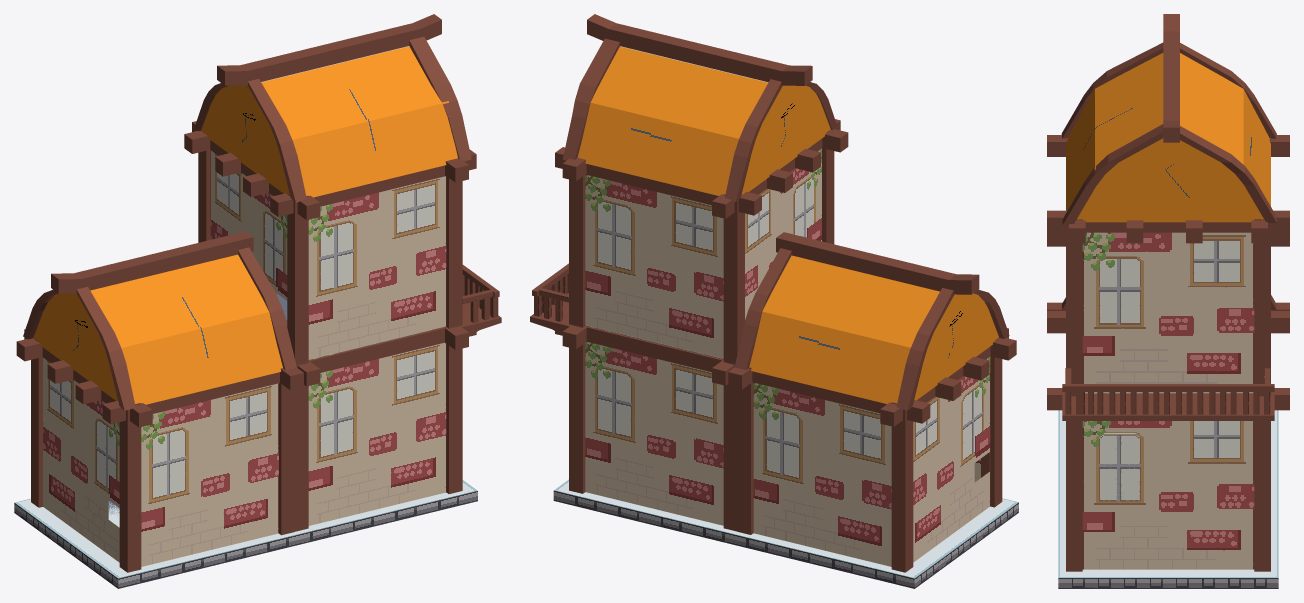
File: TestOldTownHouse1gltf.gltf
3 renders of one model, left to right at view 1: azimuth 30°, elevation 25°; view 2: azimuth 150°, elevation 25°; view 3: azimuth 270°, elevation 25°, orthographic. The views are drawn at different scales.
Visible parts, largest first — view 1: housebody (×3), roof (×2), housesupportbeams (×19), housebase; view 2: housebody (×3), roof (×2), housesupportbeams (×19), housebase; view 3: housebody (×2), housesupportbeams (×20), roof, housebase, windowpanewroundedtop.
Part boxes in pixels (x1,y1,x2,y2): housebody (×3): [43, 150, 446, 566]; roof (×2): [33, 46, 457, 404]; housesupportbeams (×19): [24, 14, 476, 572]; housebase: [14, 480, 477, 588]; housebody (×3): [585, 148, 990, 566]; roof (×2): [577, 46, 998, 403]; housesupportbeams (×19): [555, 14, 1008, 572]; housebase: [553, 479, 1018, 588]; housebody (×2): [1082, 232, 1254, 569]; housesupportbeams (×20): [1047, 14, 1289, 571]; roof: [1066, 53, 1270, 222]; housebase: [1058, 410, 1278, 588]; windowpanewroundedtop: [1099, 433, 1140, 501].
Size of the model in its own units: 19.91 by 21.34 by 10.
Materials: 5 (5 with a texture image).
